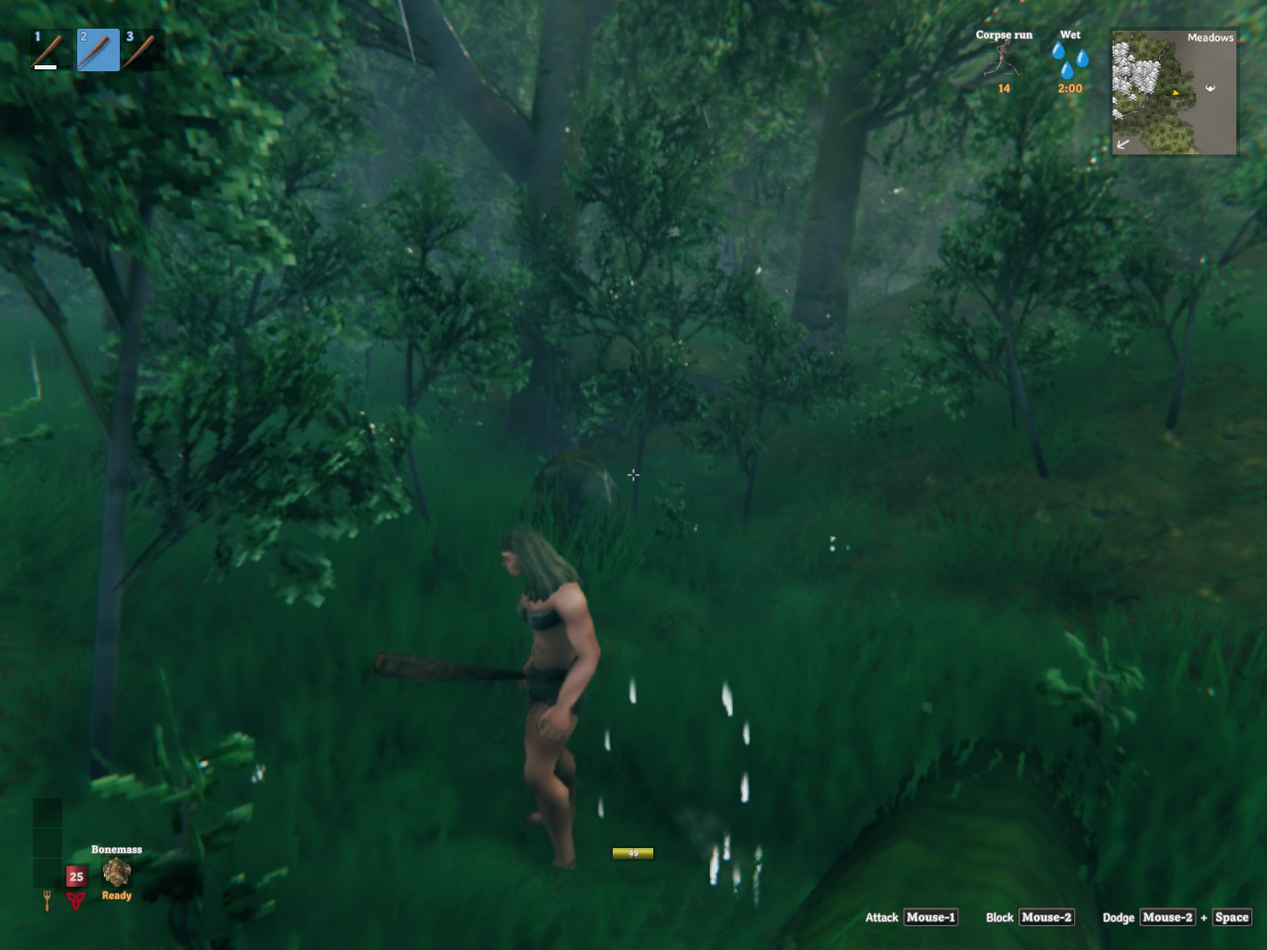Food Indicator: (36, 797, 63, 891)
Health Bar: (63, 820, 90, 891)
Hotbar: (24, 21, 195, 80)
Stamina Bar: (609, 841, 673, 867)
Status Indicator: (966, 22, 1111, 100)
